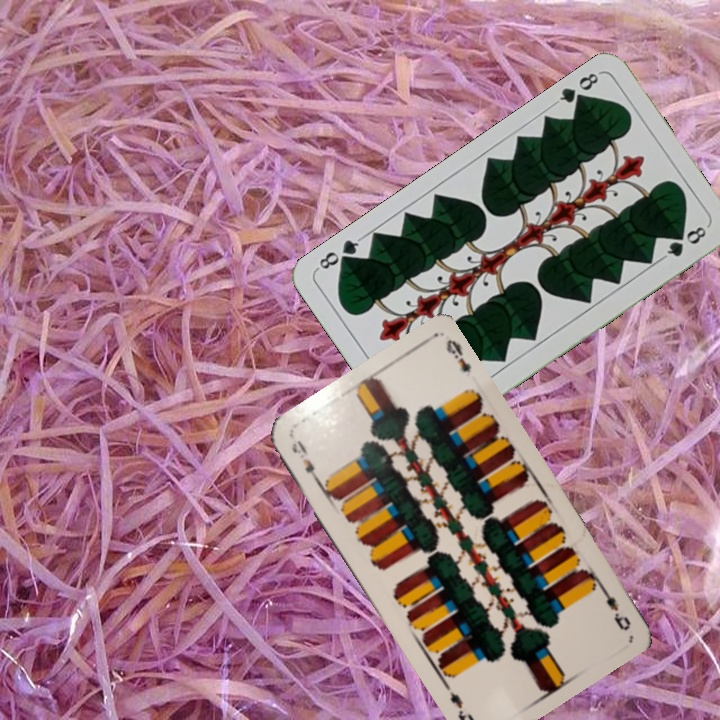E9: (595, 580, 634, 633), (287, 436, 324, 488)
G8: (550, 68, 602, 111)
